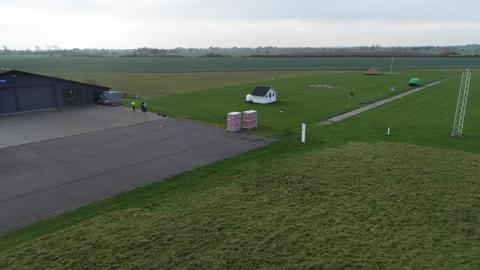RockwoolPallet: (243, 108, 258, 129)
